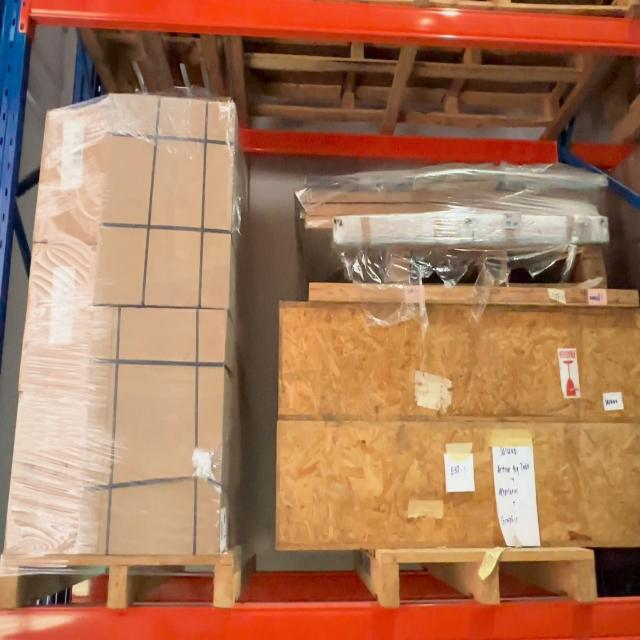box: (97, 310, 219, 542), (106, 98, 229, 312), (20, 396, 81, 556), (36, 243, 90, 385), (47, 111, 100, 238)
